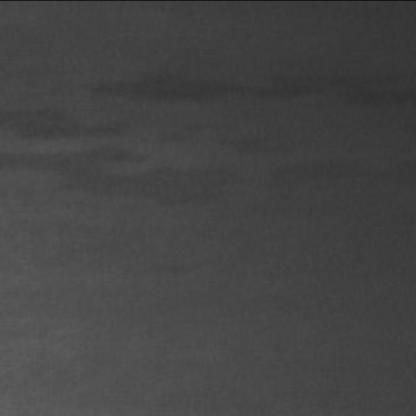inclusion: (11, 120, 399, 200), (71, 54, 416, 110)
